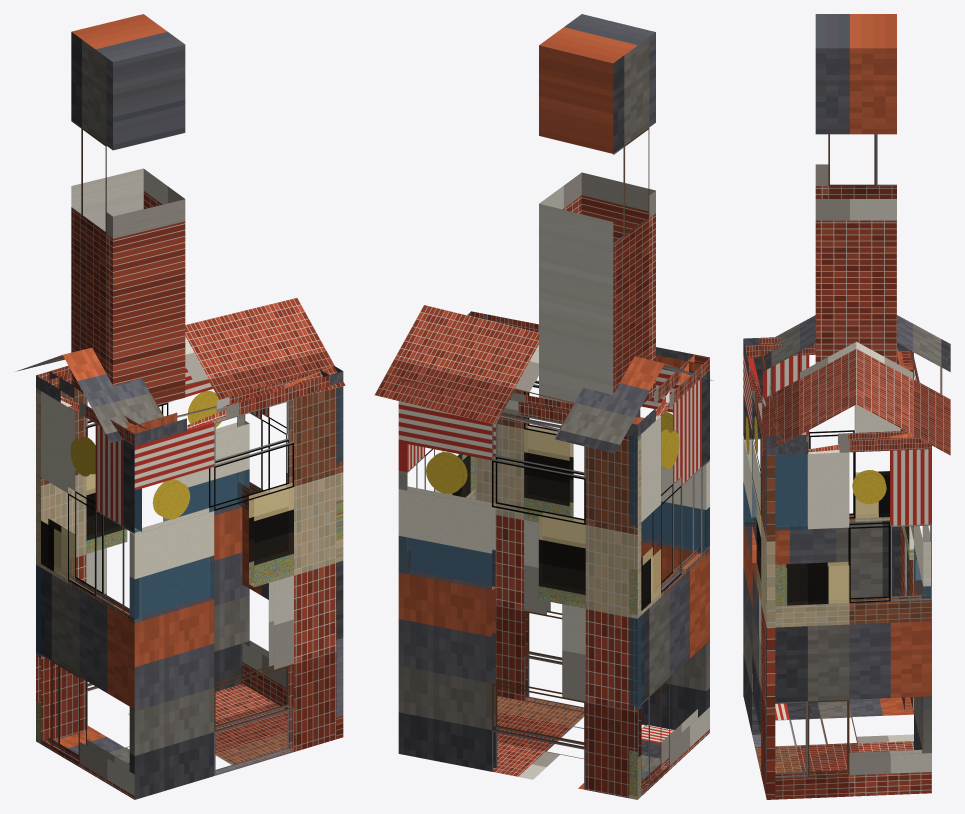
The picture shows the model from 3 angles, left to right: view 1: azimuth 30°, elevation 25°; view 2: azimuth 150°, elevation 25°; view 3: azimuth 270°, elevation 25°; orthographic projection. The views are drawn at different scales.
Visible parts, largest first — view 1: 238625194__wall_2_xb, 238625194__chimney_0_xb, 238625194__wall_1_xb, 238625194__wall_0_xb, 238625194_roof_-1_xb, 238625194__wall_2_xf, 238625194__wall_3_xb, 238625194__base, 238625194__wall_0_xf, 238625194__cornice_2, 238625194__wall_1_xf, 238625194__cornice_1 (+1 smaller); view 2: 238625194__wall_0_xb, 238625194__chimney_0_xb, 238625194__wall_2_xb, 238625194__wall_1_xb, 238625194_roof_1_xb, 238625194__wall_0_xf, 238625194__wall_2_xf, 238625194__base, 238625194__wall_1_xf, 238625194__wall_3_xb, 238625194__cornice_1, 238625194__cornice_0 (+1 smaller); view 3: 238625194__wall_3_xb, 238625194__chimney_0_xb, 238625194__wall_2_xb, 238625194__wall_1_xb, 238625194_roof_1_xb, 238625194_roof_-1_xb, 238625194__wall_3_xf, 238625194__base, 238625194__wall_0_xb, 238625194__cornice_3, 238625194__cornice_2, 238625194__wall_2_xf (+3 smaller).
Part boxes in pixels (<box>): 238625194__wall_2_xb: <box>129,387,343,799</box>; 238625194__chimney_0_xb: <box>71,14,185,404</box>; 238625194__wall_1_xb: <box>36,391,141,799</box>; 238625194__wall_0_xb: <box>36,367,249,743</box>; 238625194_roof_-1_xb: <box>63,297,345,442</box>; 238625194__wall_2_xf: <box>130,484,293,622</box>; 238625194__wall_3_xb: <box>237,386,343,739</box>; 238625194__base: <box>47,684,292,767</box>; 238625194__wall_0_xf: <box>36,389,249,743</box>; 238625194__cornice_2: <box>125,365,333,446</box>; 238625194__wall_1_xf: <box>41,489,141,579</box>; 238625194__cornice_1: <box>45,371,147,446</box>; 238625194__wall_0_xb: <box>398,401,641,799</box>; 238625194__chimney_0_xb: <box>539,14,655,403</box>; 238625194__wall_2_xb: <box>475,369,709,729</box>; 238625194__wall_1_xb: <box>629,371,709,799</box>; 238625194_roof_1_xb: <box>374,305,664,453</box>; 238625194__wall_0_xf: <box>399,435,640,798</box>; 238625194__wall_2_xf: <box>524,426,709,553</box>; 238625194__base: <box>493,696,673,789</box>; 238625194__wall_1_xf: <box>629,436,660,795</box>; 238625194__wall_3_xb: <box>398,442,475,573</box>; 238625194__cornice_1: <box>626,354,709,437</box>; 238625194__cornice_0: <box>398,377,644,436</box>; 238625194__wall_3_xb: <box>766,449,931,799</box>; 238625194__chimney_0_xb: <box>815,14,896,363</box>; 238625194__wall_2_xb: <box>743,352,775,799</box>; 238625194__wall_1_xb: <box>743,355,908,697</box>; 238625194_roof_1_xb: <box>856,315,950,455</box>; 238625194_roof_-1_xb: <box>762,315,856,455</box>; 238625194__wall_3_xf: <box>766,454,848,605</box>; 238625194__base: <box>752,697,913,773</box>; 238625194__wall_0_xb: <box>900,351,931,753</box>; 238625194__cornice_3: <box>765,430,931,454</box>; 238625194__cornice_2: <box>743,338,782,455</box>; 238625194__wall_2_xf: <box>743,478,760,598</box>.
Bounding box in the file's own units: 0.4869 × 1.4 × 0.3827.
Materials: 1 (1 with a texture image).
